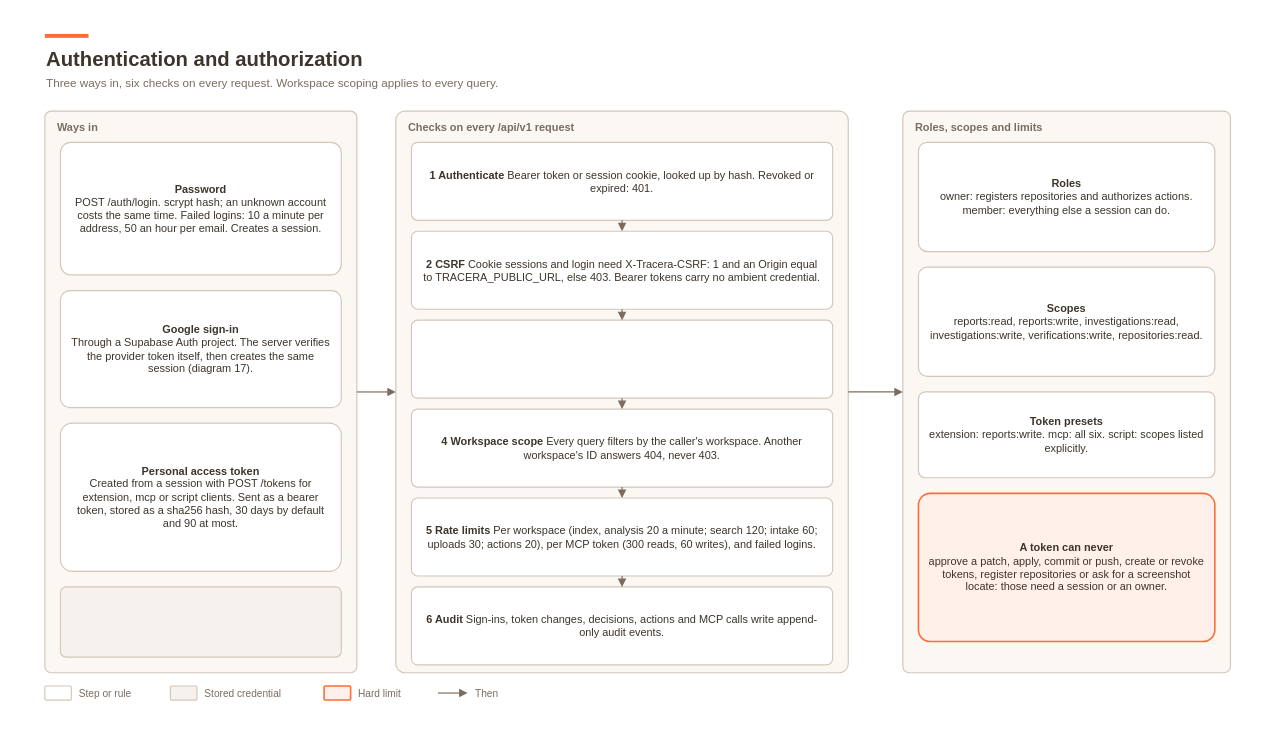
Some shapes in this 1275 by 729 pixel diagram are drawn without their labels. The centre of each missing label's shape, as x and y in pixels:
"3 Route guard requireScope for tokens, requireSession, requireOwner." belongs at point (622, 358).
"Session cookie tracera_session, 7 days. Only the sha256 of its secret is stored." belongs at point (200, 621).
